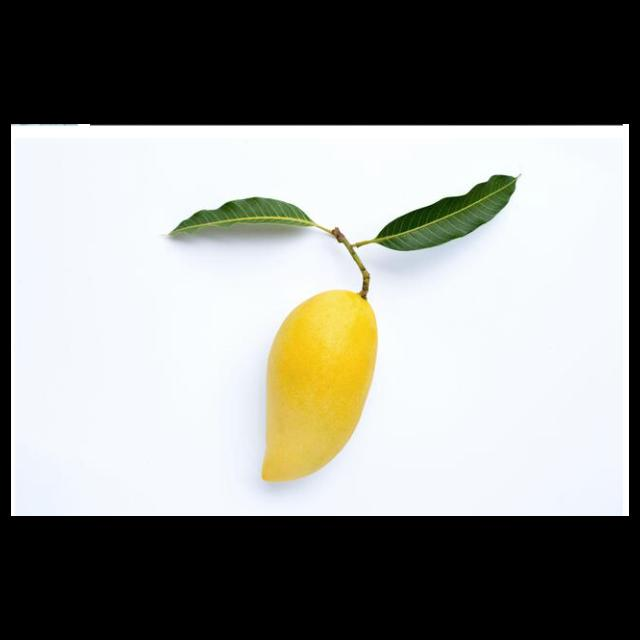mango: (260, 289, 378, 478)
